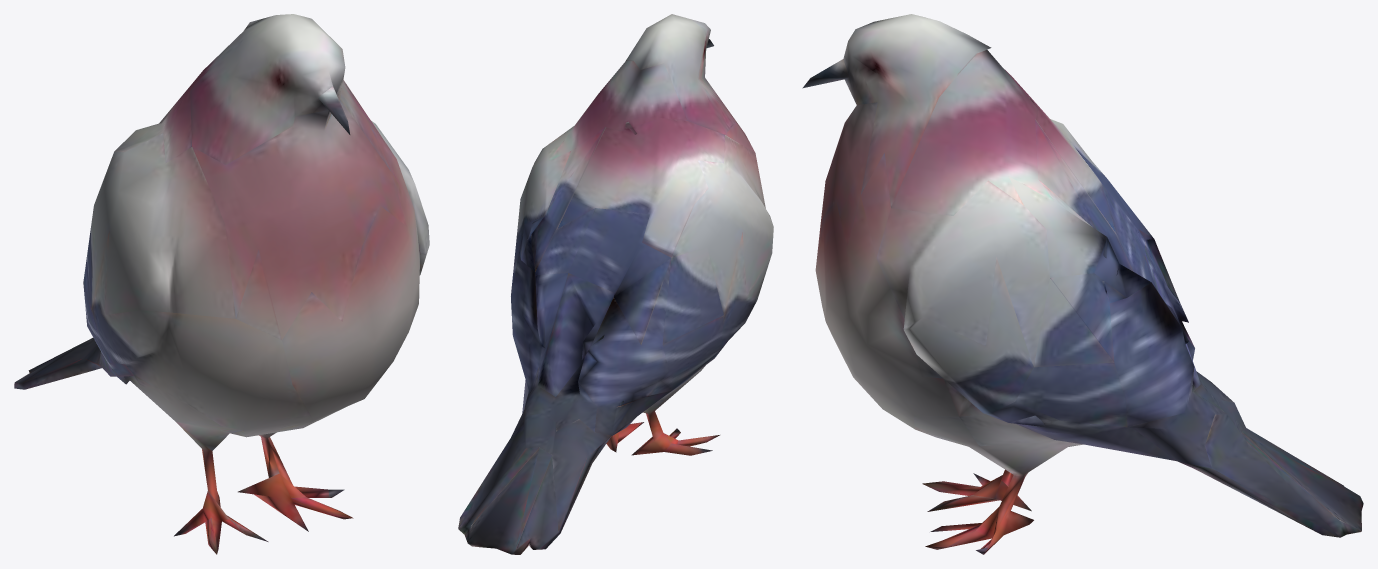
File: obstacle-pigeon.glb
3 views of the same model, side by side, from view 1: azimuth 30°, elevation 25°; view 2: azimuth 150°, elevation 25°; view 3: azimuth 270°, elevation 25° (orthographic). The views are drawn at different scales.
Bounding box in the file's own units: 1.14 × 1.98 × 2.
1 material, 1 textured.
